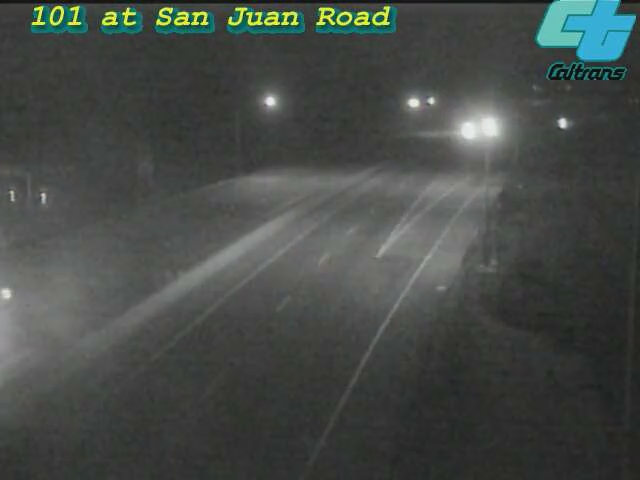vehicle: (1, 259, 46, 339), (537, 99, 587, 149), (440, 106, 490, 156), (465, 102, 515, 152)
